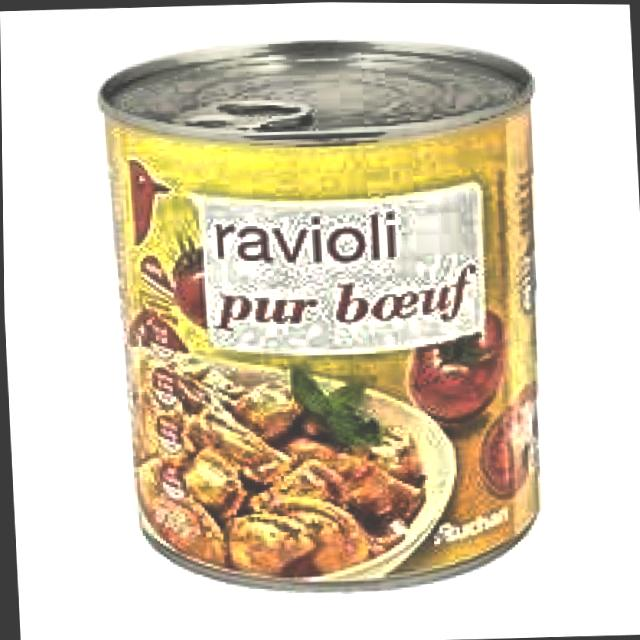Cans: (59, 3, 557, 605)
